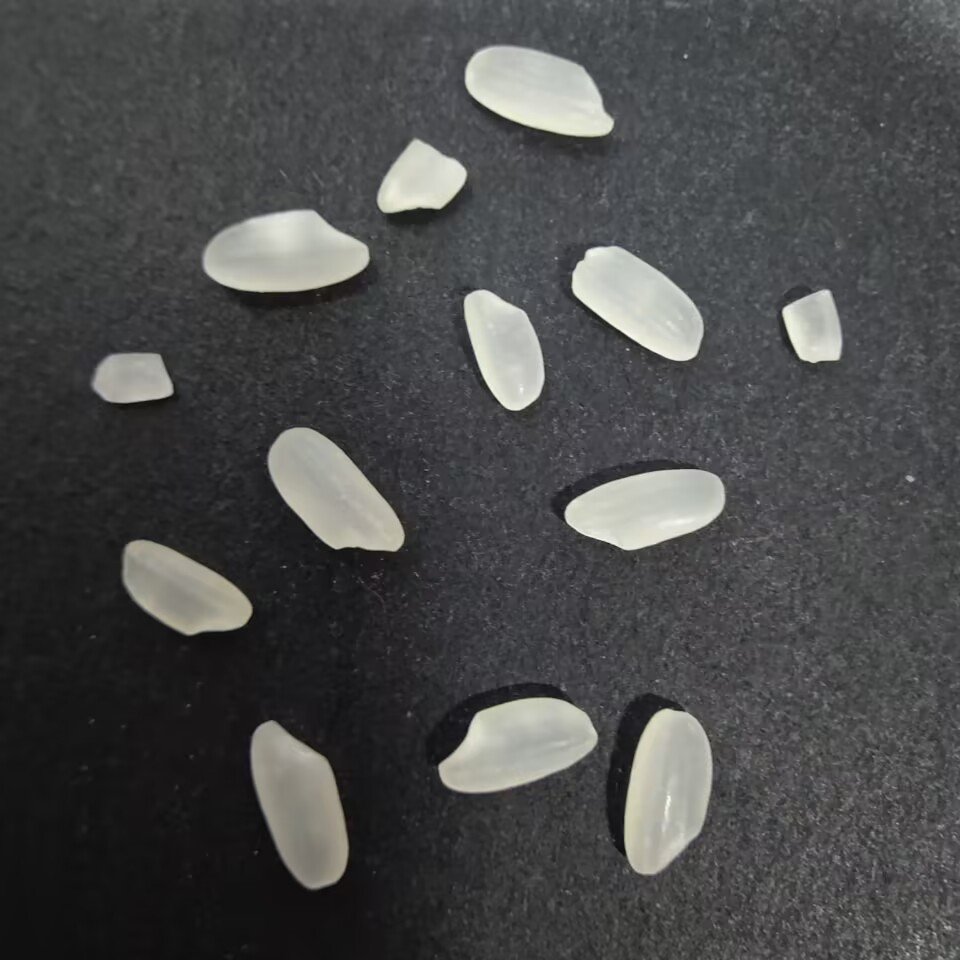broken: (370, 135, 470, 223), (87, 346, 176, 414), (777, 286, 846, 369)
rice: (266, 424, 413, 561), (245, 716, 353, 896), (433, 693, 600, 798), (566, 241, 709, 363), (619, 705, 718, 881), (196, 205, 373, 296), (558, 464, 730, 555), (460, 44, 620, 140), (115, 539, 259, 639), (460, 286, 552, 417)
